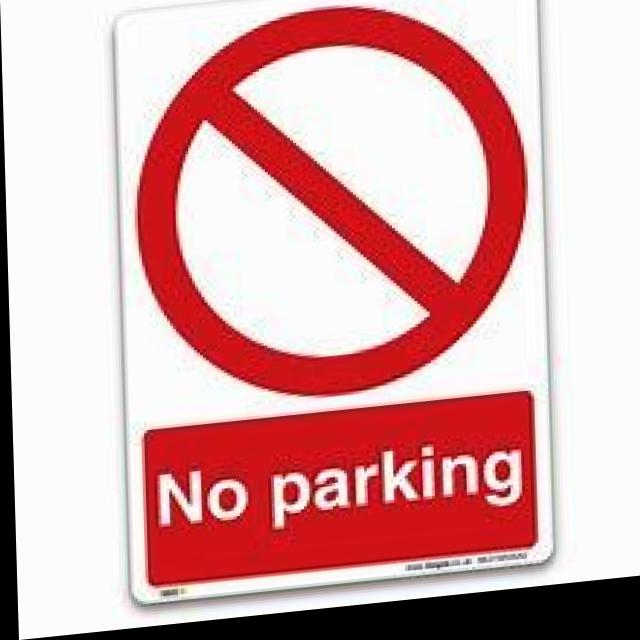NO_STOPPING_OR_STANDING: (130, 0, 531, 415)
